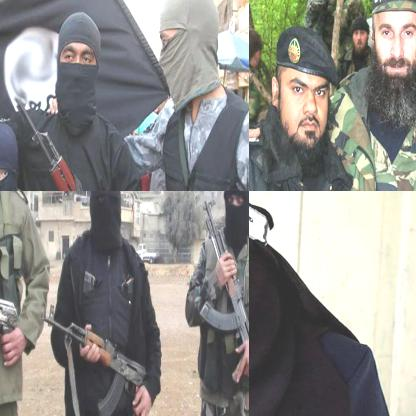rifle: (41, 302, 151, 415), (13, 100, 148, 190), (195, 196, 248, 380), (0, 281, 25, 383)
